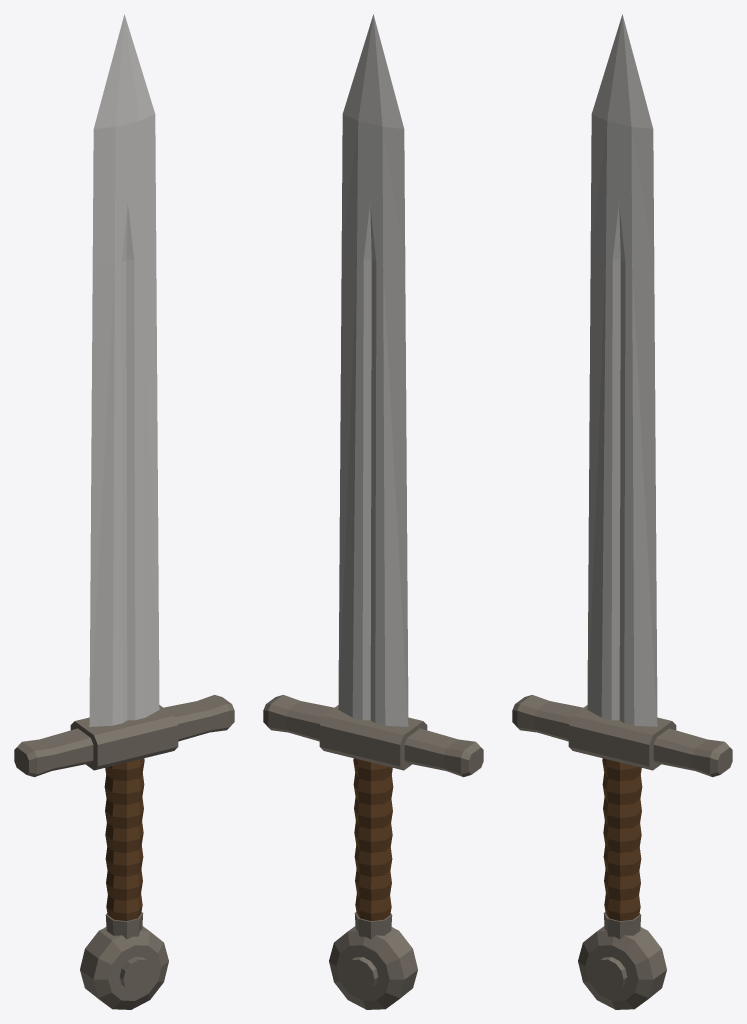
The model's file is pirate_sword.glb.
The picture shows the model from 3 angles, left to right: view 1: azimuth 30°, elevation 25°; view 2: azimuth 150°, elevation 25°; view 3: azimuth 330°, elevation 25°; orthographic projection.
Visible parts, largest first — view 1: arming-sword-body; view 2: arming-sword-body; view 3: arming-sword-body.
Boxes of the visible parts, <box> form: arming-sword-body: <box>14,14,234,1009</box>; arming-sword-body: <box>263,14,483,1009</box>; arming-sword-body: <box>512,14,732,1009</box>.
Size of the model in its own units: 0.22 by 1.01 by 0.053.
